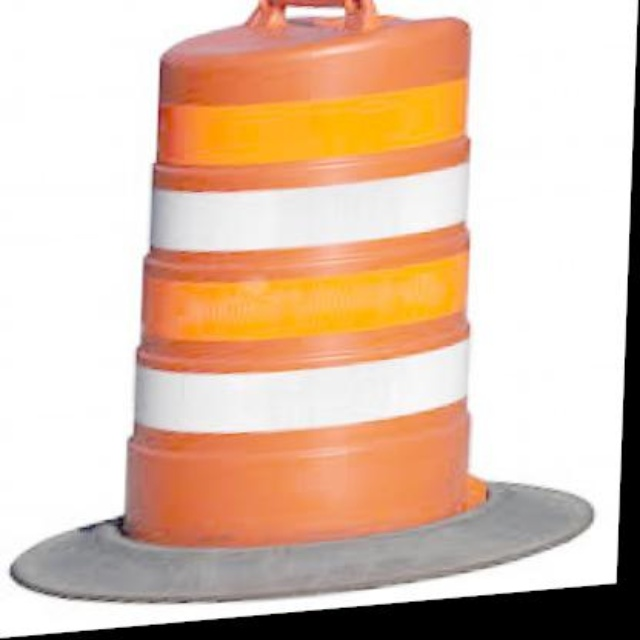obstacle: (102, 10, 495, 561)
